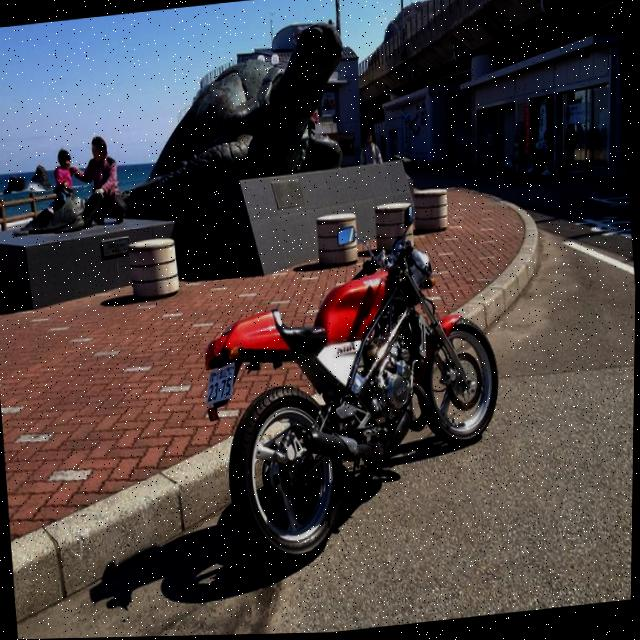motorcycle: (187, 187, 519, 581)
